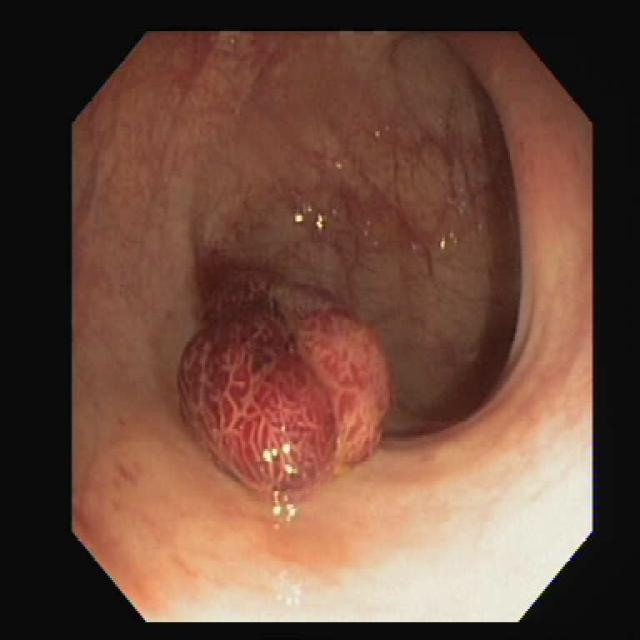tumor: (178, 249, 392, 520)
